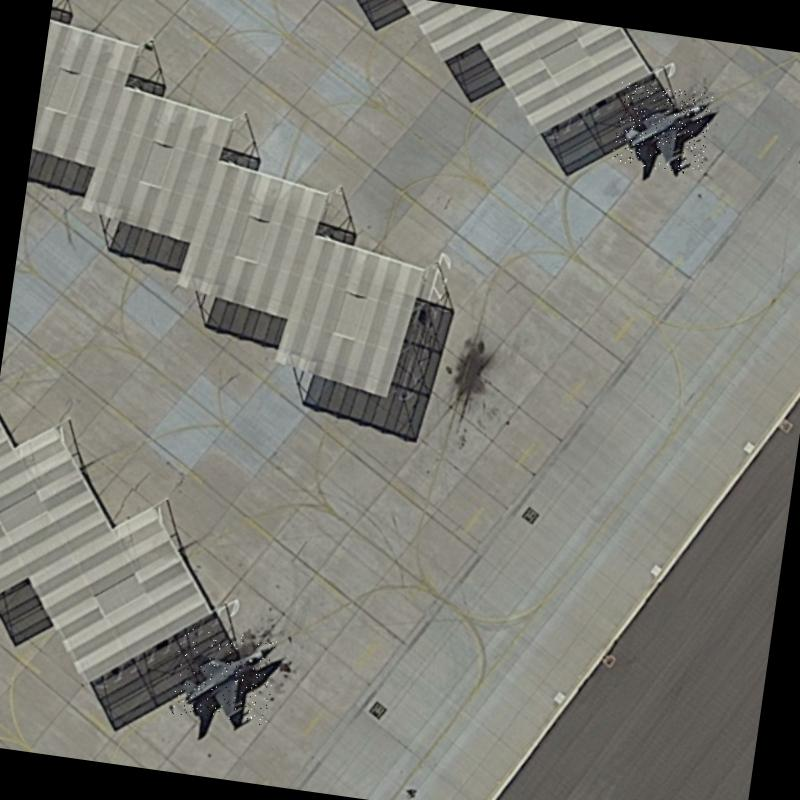A5: (168, 626, 278, 726), (610, 80, 713, 176)
